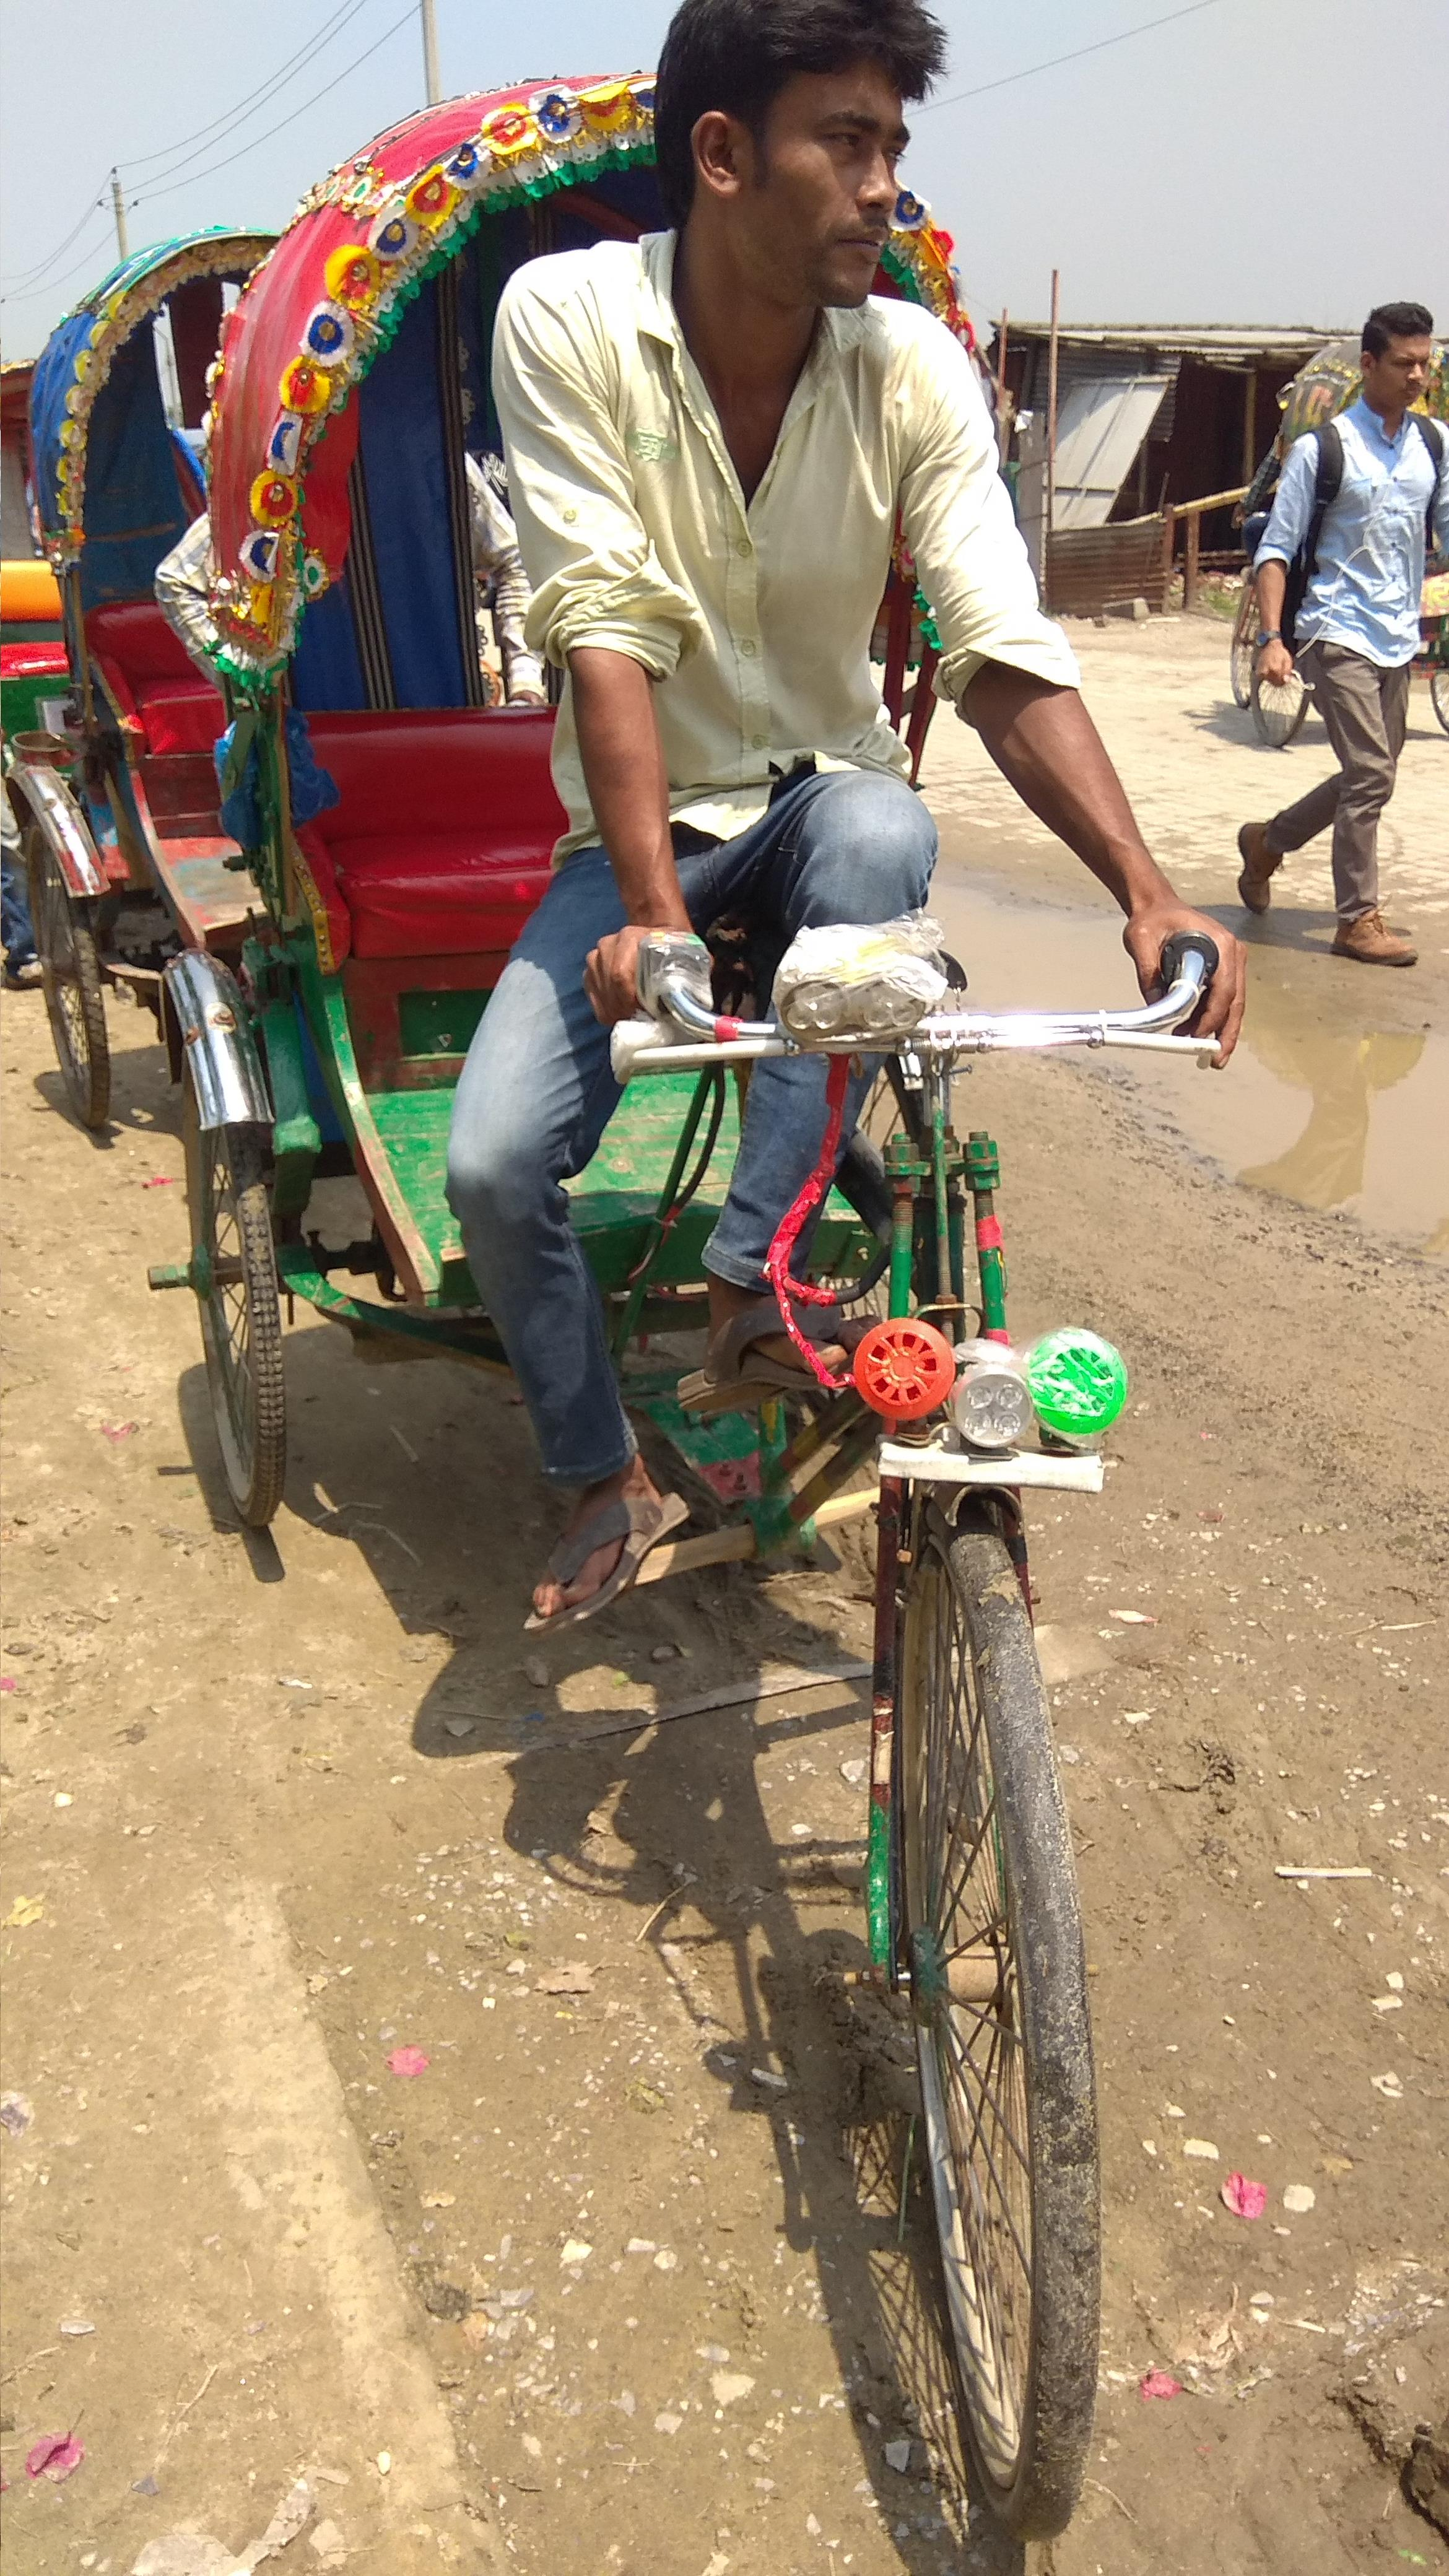Rickshaw: (226, 76, 1230, 2465), (55, 186, 324, 1104)
